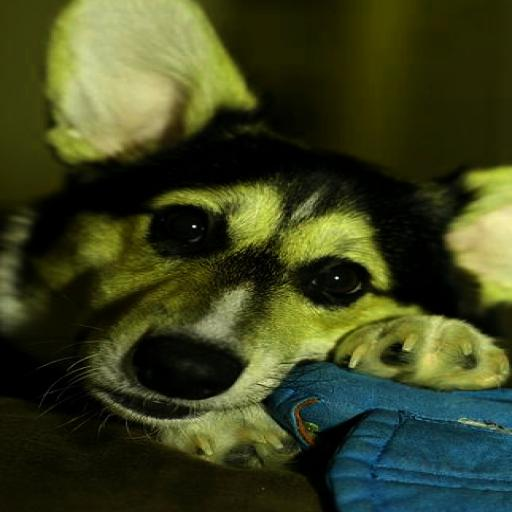dog_face: (46, 5, 512, 421)
